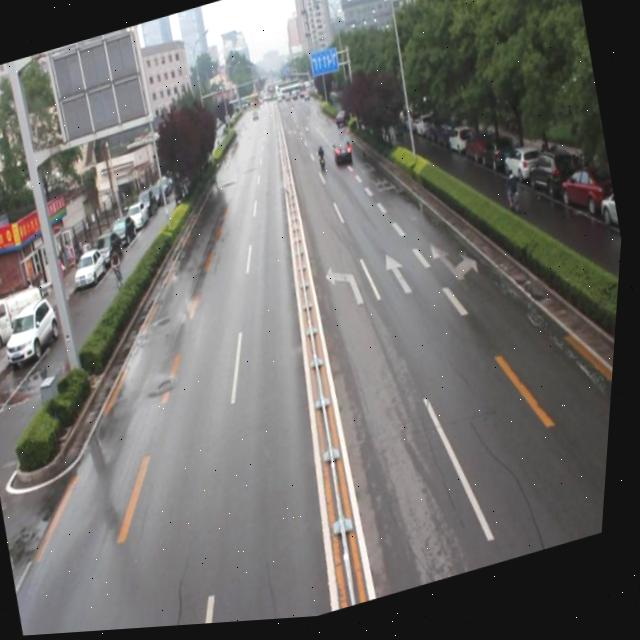car: (331, 141, 357, 172)
